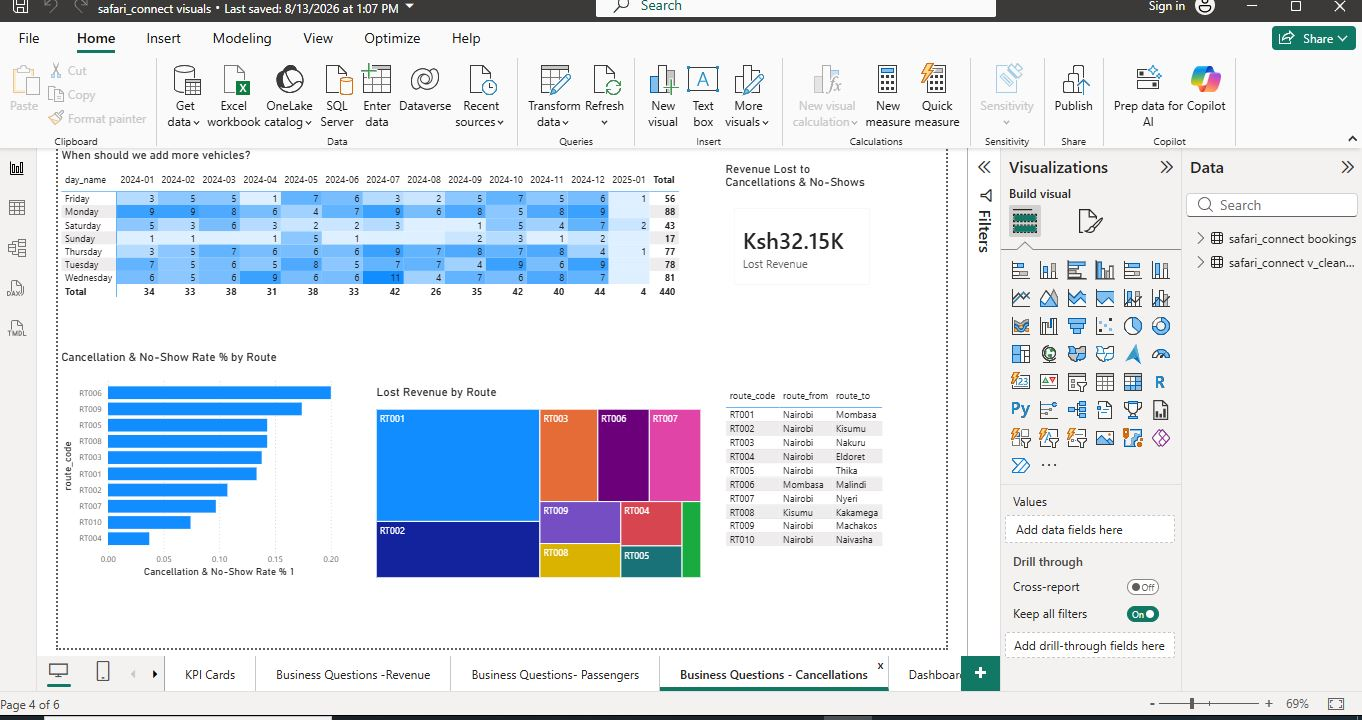

What the dashboard file says about the page in this screenshot:
{"tool":"powerbi","page":{"name":"Business Questions - Cancellations","canvas":[1280,720],"ordinal":3},"visuals":[{"type":"pivotTable","title":"When should we add more vehicles?","fields":{"Rows":["safari_connect v_clean_trips.day_name"],"Columns":["safari_connect v_clean_trips.travel_month"],"Values":["Sum(safari_connect v_clean_trips.seats_booked)"]},"box":[0,0,955.8,234.7],"z":0},{"type":"clusteredBarChart","title":"Cancellation & No-Show Rate %  by Route","fields":{"Y":["safari_connect bookings.Cancellation & No-Show Rate % 1"],"Category":["safari_connect bookings.route_code"]},"box":[0,290.6,409.9,332.6],"z":1000},{"type":"cardVisual","title":"Revenue Lost to Cancellations & No-Shows","fields":{"Data":["safari_connect bookings.Lost Revenue"]},"box":[955.8,20.2,230.1,194.9],"z":2000},{"type":"treemap","title":"Lost Revenue by Route","fields":{"Group":["safari_connect bookings.route_code"],"Values":["safari_connect bookings.Lost Revenue"]},"box":[453.5,341,477.1,282.2],"z":3000},{"type":"tableEx","fields":{"Values":["safari_connect v_clean_trips.route_code","safari_connect v_clean_trips.route_from","safari_connect v_clean_trips.route_to"]},"box":[955.8,341,258.7,282.2],"z":4000}]}

Visuals, with their boxes on the page's 1280x720 design canvas (x1, y1, x2, y2). These are canvas units, not pixel positions in the 1362x720 screenshot, which may show the page scaled, cropped or inside an application window:
"When should we add more vehicles?" pivotTable: BBox(0, 0, 956, 235)
"Cancellation & No-Show Rate %  by Route" clusteredBarChart: BBox(0, 291, 410, 623)
"Revenue Lost to Cancellations & No-Shows" cardVisual: BBox(956, 20, 1186, 215)
"Lost Revenue by Route" treemap: BBox(454, 341, 931, 623)
tableEx - safari_connect v_clean_trips.route_code x safari_connect v_clean_trips.route_from: BBox(956, 341, 1214, 623)
